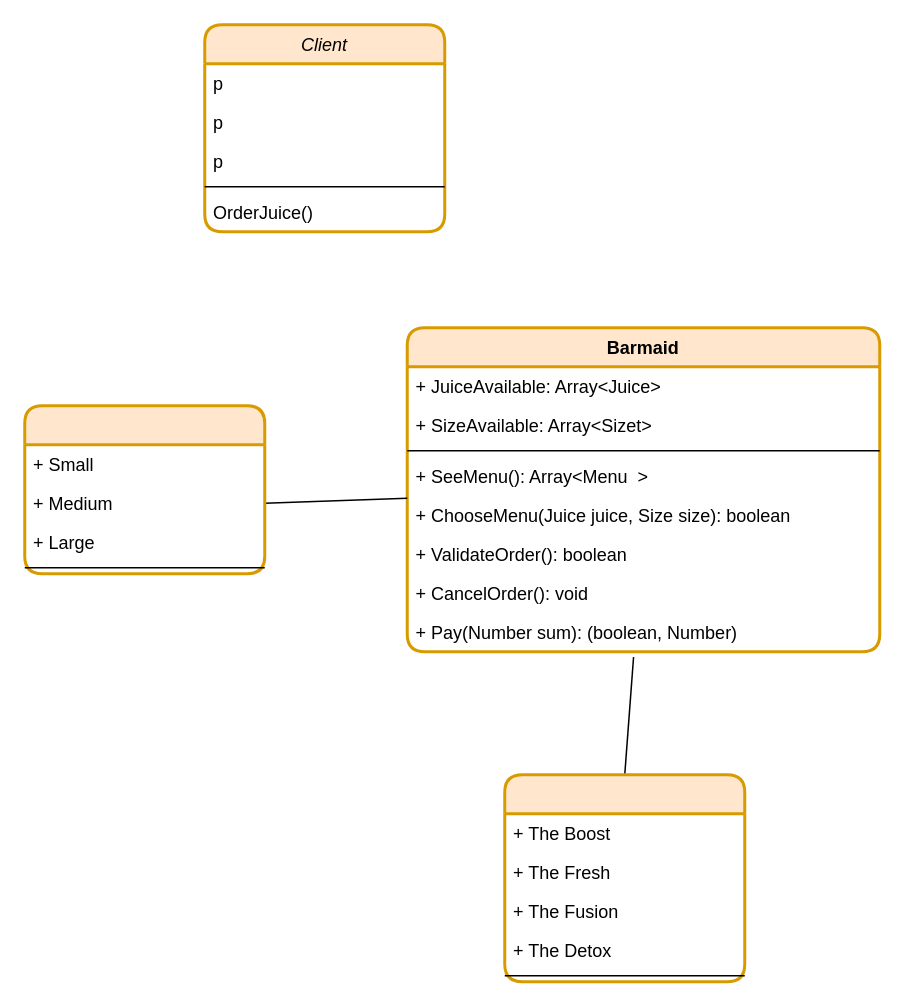
The diagram is 905 pixels wide and 1007 high, and some of its shapes have lost their labels. The shapes that lost their labels are listed below. From the top down, each one's box as (x1, y1, x2, y2) in pixels, then its label:
(22, 404, 266, 574): Size
(502, 772, 746, 982): Juice
